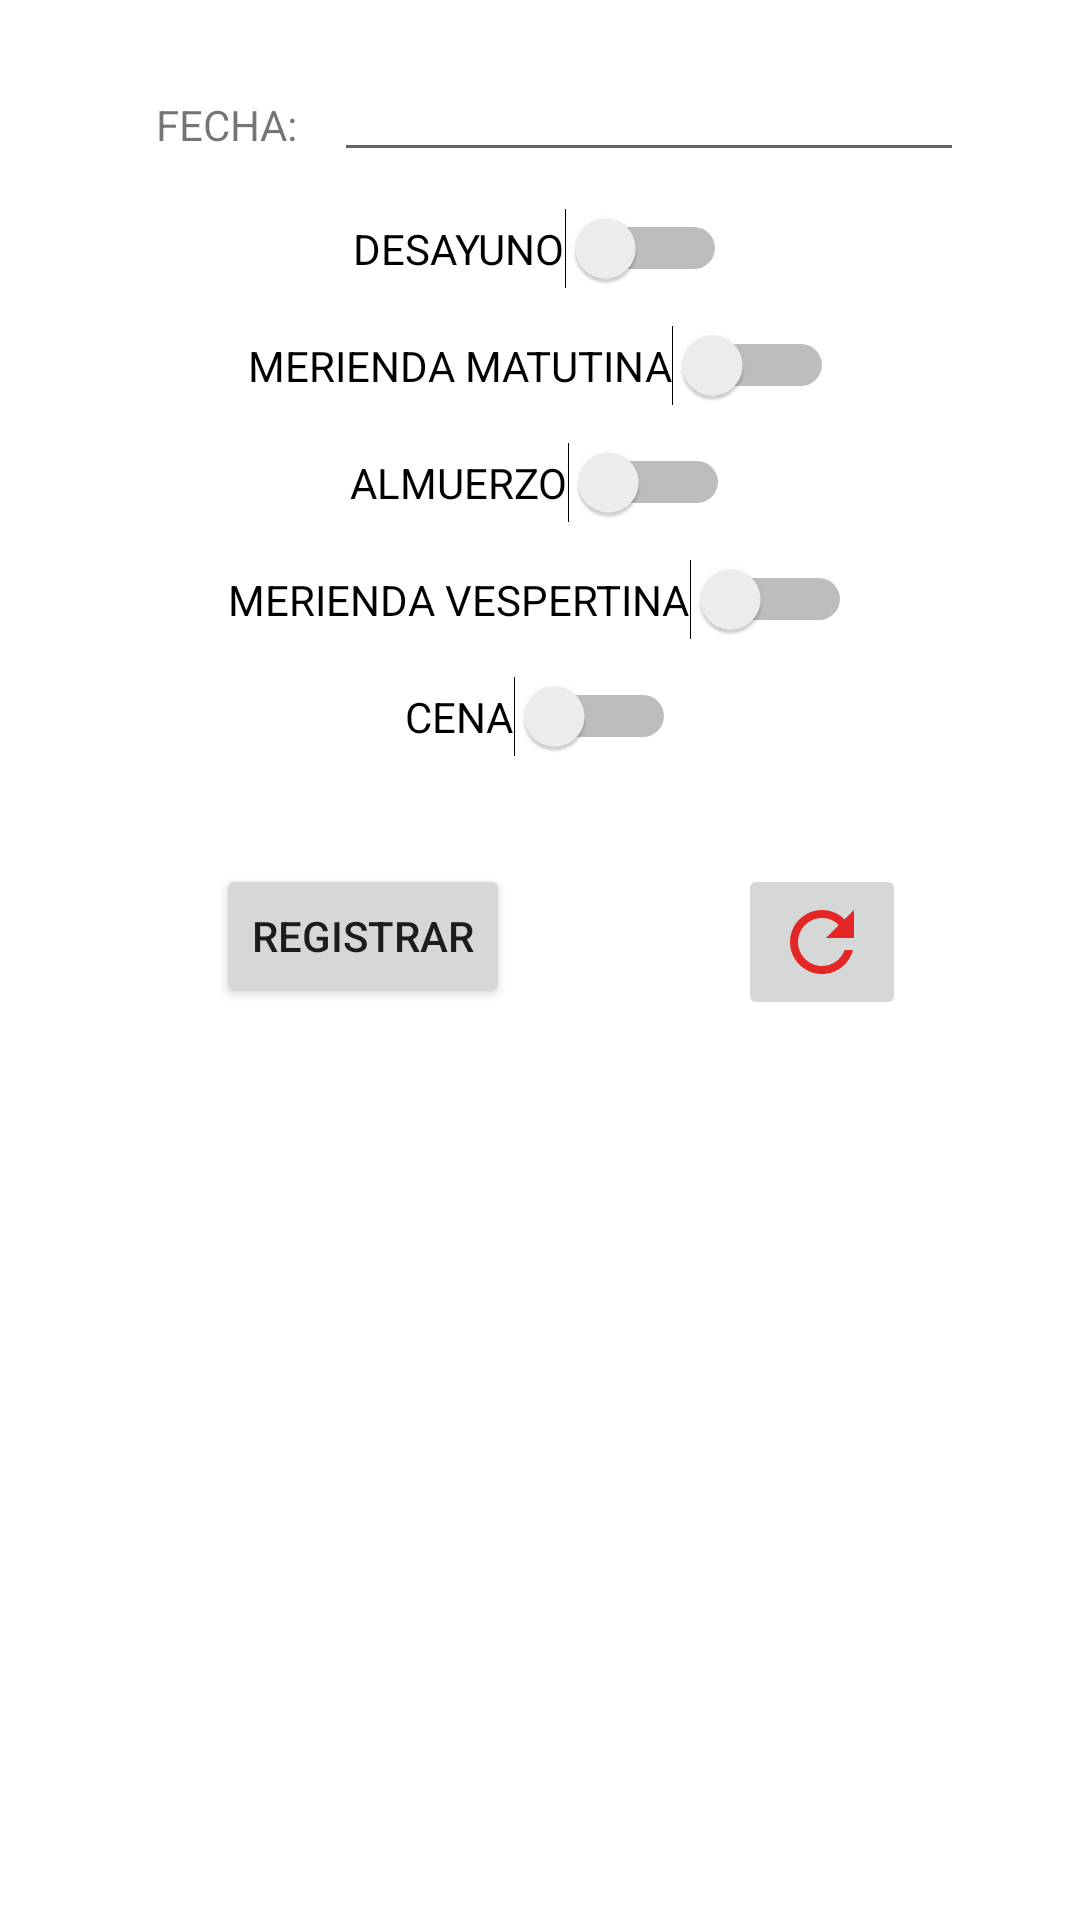

Icon click points for this 1080px×1920px phone screenshot, format [x,y]:
refresh: [822,942]
